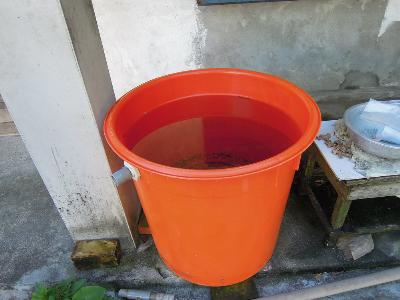bowl: (343, 99, 400, 162)
bucket: (104, 69, 322, 287)
